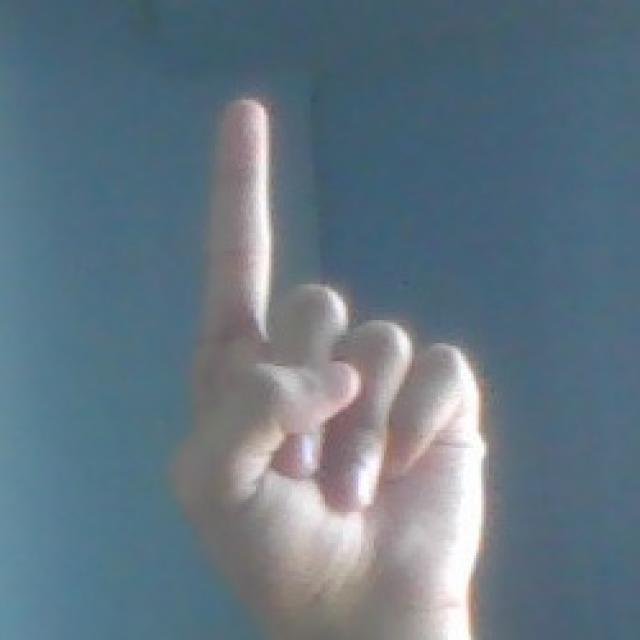Numeric-1: (178, 100, 488, 630)
